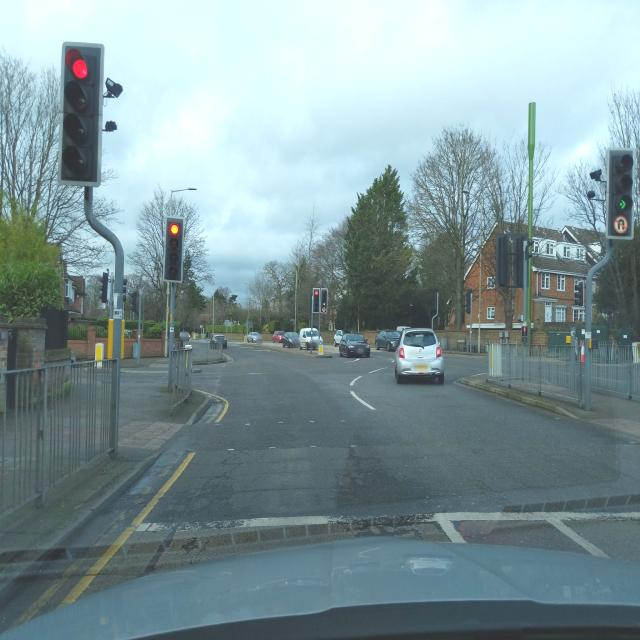car: (393, 327, 445, 385), (338, 332, 371, 358), (374, 329, 401, 352), (298, 328, 322, 351), (210, 333, 228, 350), (282, 332, 300, 348), (333, 329, 344, 346), (273, 330, 285, 343), (246, 332, 261, 342)
